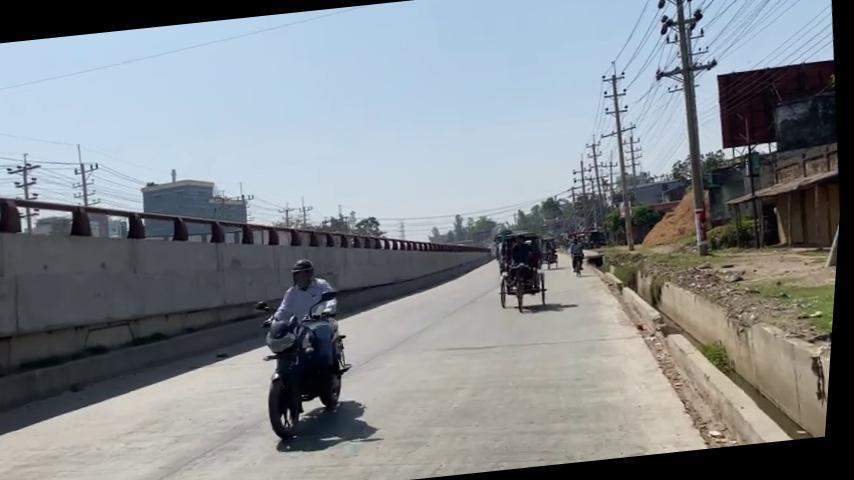Curb: (249, 288, 367, 442)
Fallen-tree: (0, 149, 295, 395)
Fence: (569, 236, 590, 272)
Garbage: (655, 0, 725, 257), (591, 60, 650, 253)
Garbage-bin: (677, 303, 838, 451)
Muddy road: (490, 222, 567, 317)
